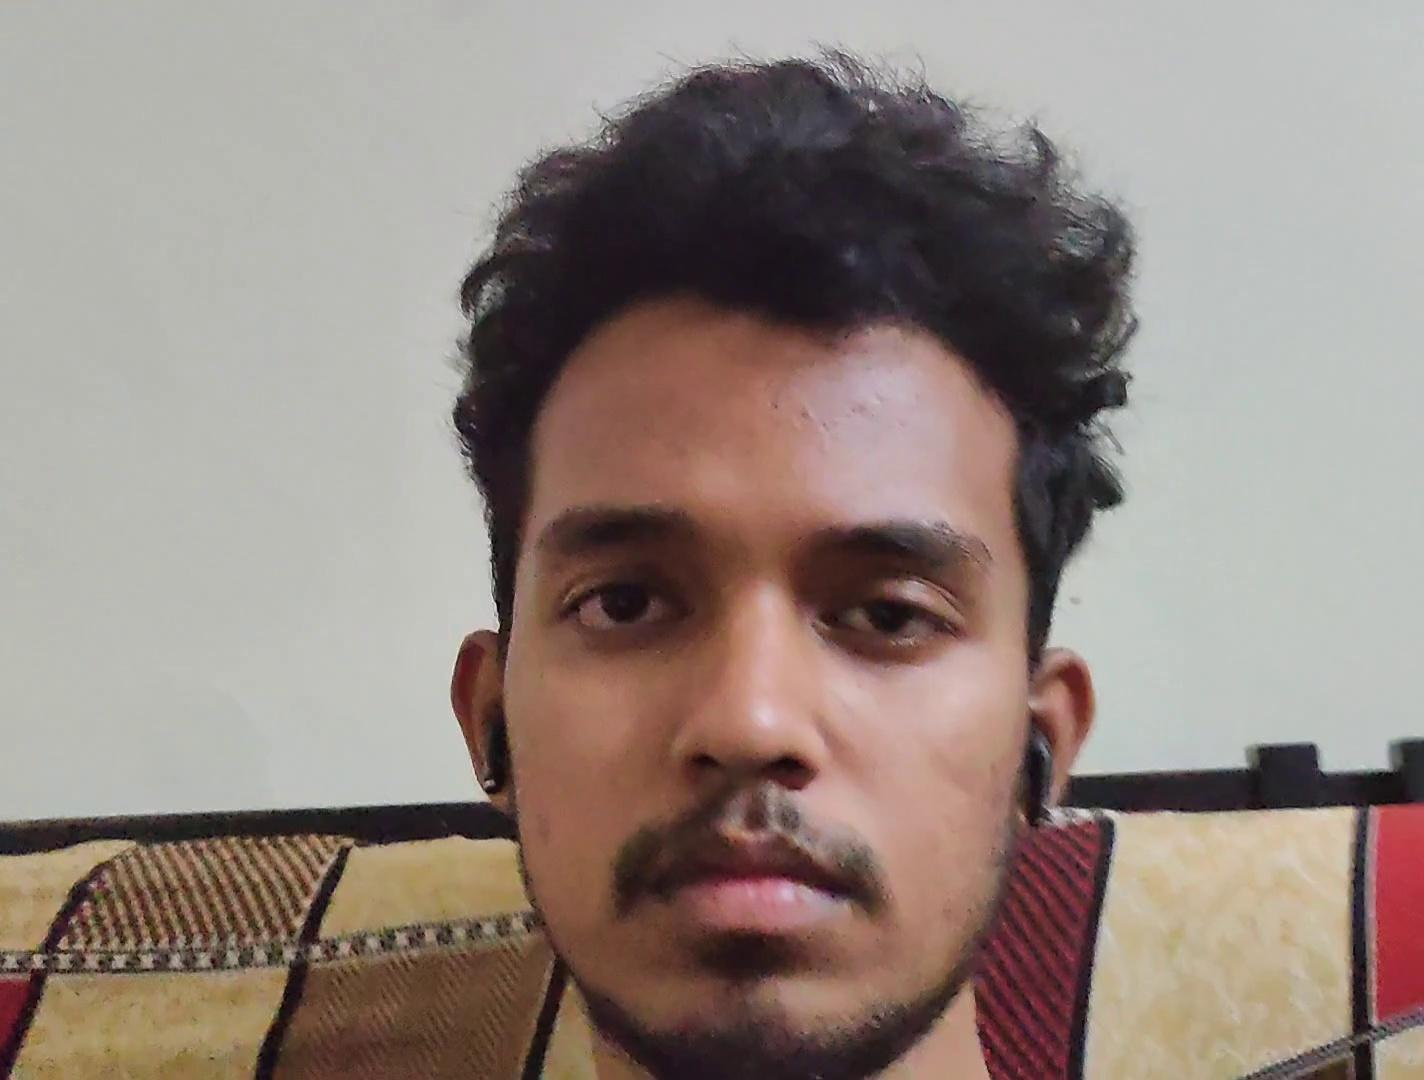face: (500, 307, 1034, 1059)
